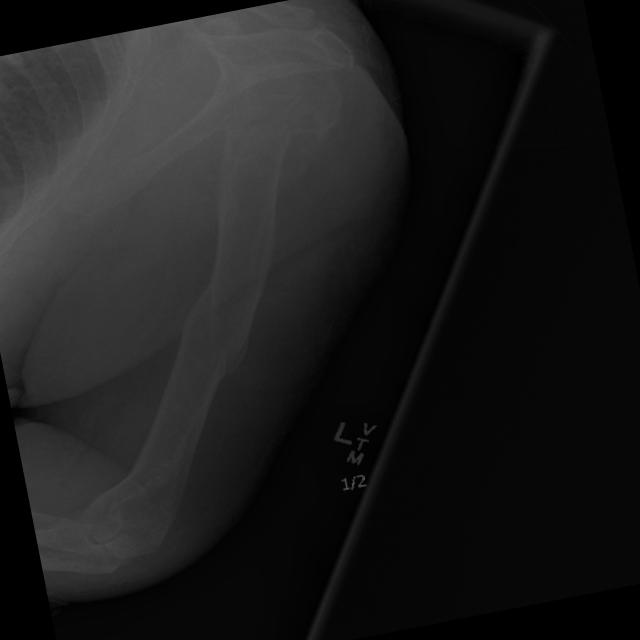humerus fracture: (109, 256, 308, 433)
